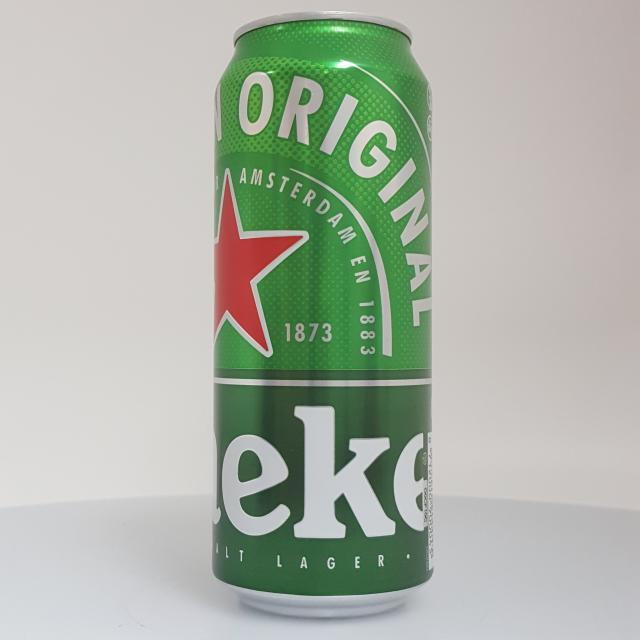can: (206, 8, 441, 624)
